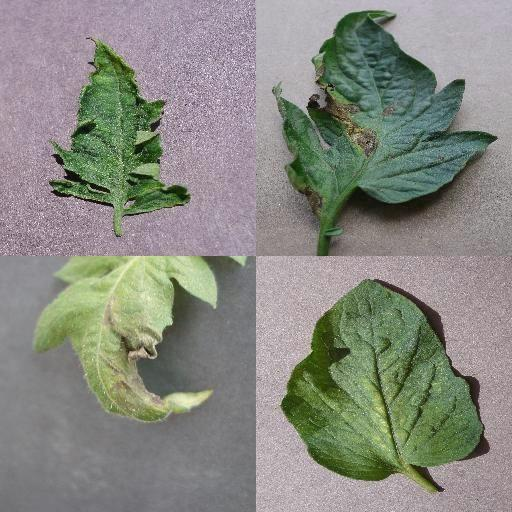Early Blight: (270, 9, 504, 211)
Late Blight: (31, 256, 219, 426)
Mosaic Virus: (47, 35, 193, 219)
Spider Mites: (281, 277, 485, 483)
